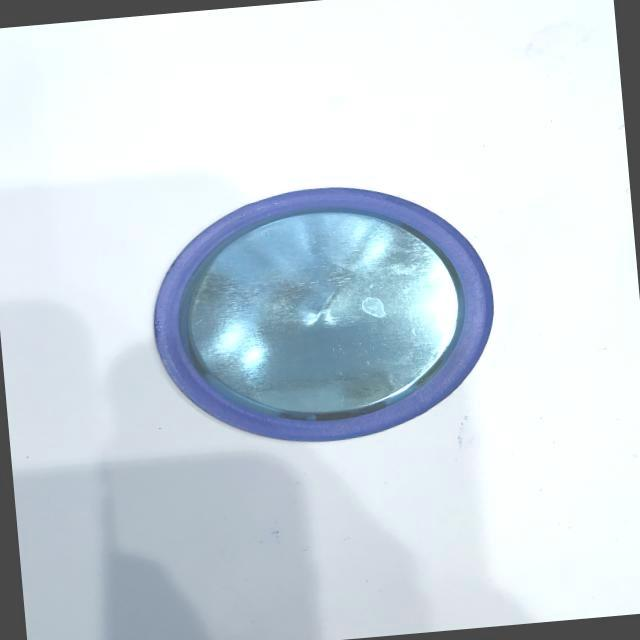metal: (124, 135, 537, 478)
